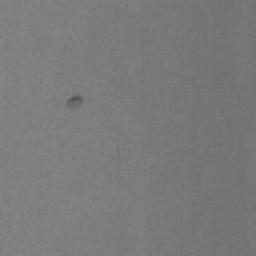Inclusion: (65, 96, 84, 110)
